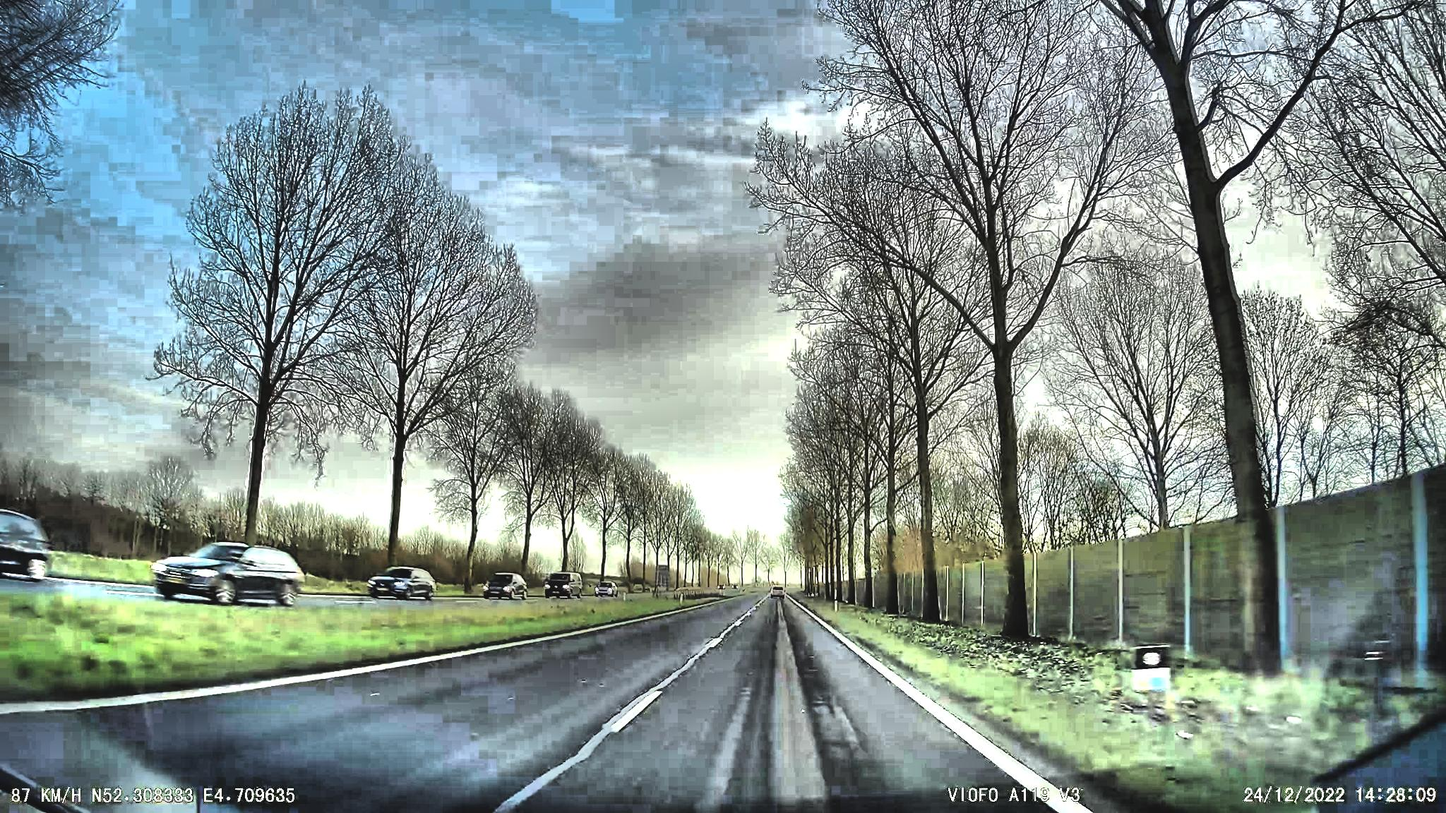Roads: (0, 596, 1126, 813)
